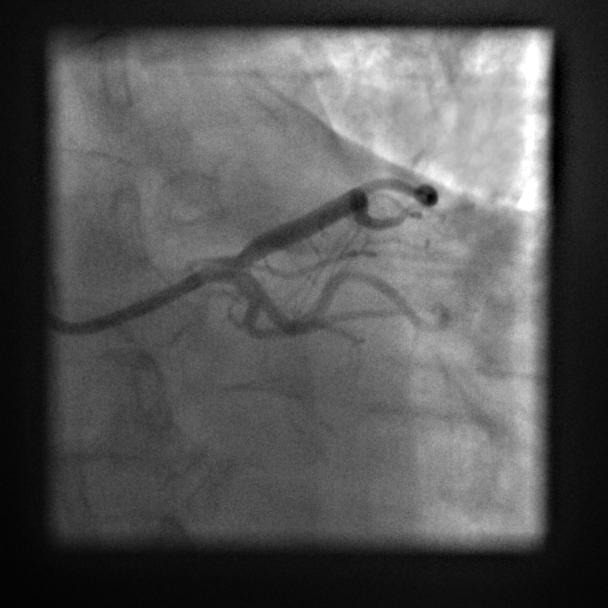Stenosis: (223, 241, 261, 268)
